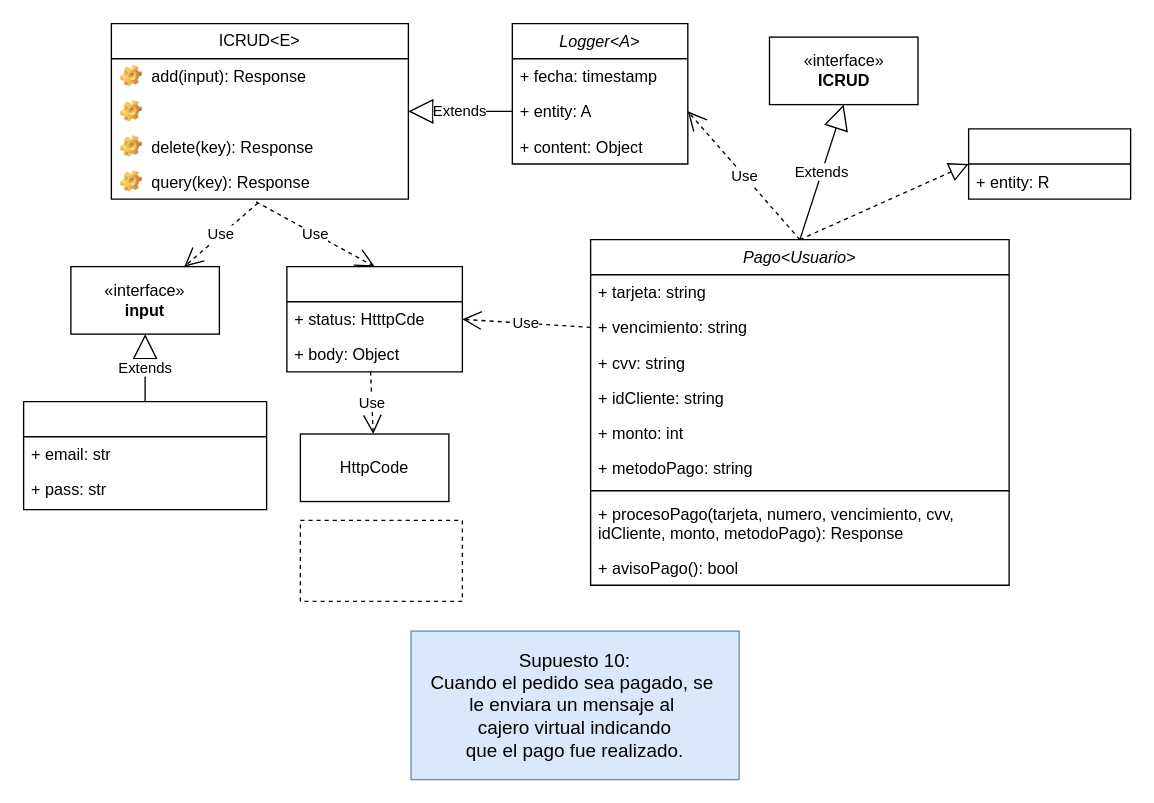
This 1154x803 diagram has some shape labels left out. The shapes that lost their labels are listed below. From the top down, each one's box as (x1, y1, x2, y2) in pixels, then its label:
(111, 93, 408, 128): update(key, input): Response
(967, 128, 1131, 199): ICRUDA<R>
(286, 265, 462, 372): Response
(22, 400, 267, 510): Usuarioinput
(299, 519, 462, 601): 200: OK 400: Not Allowed 404: Not Found
